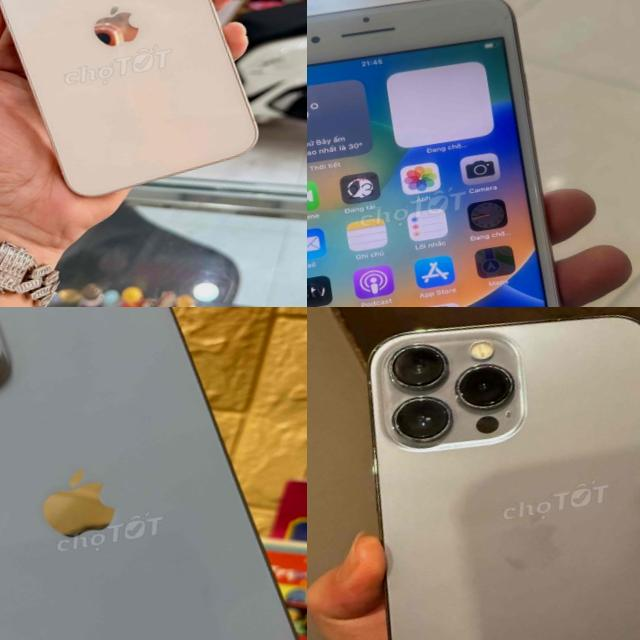scratch: (307, 0, 603, 307)
